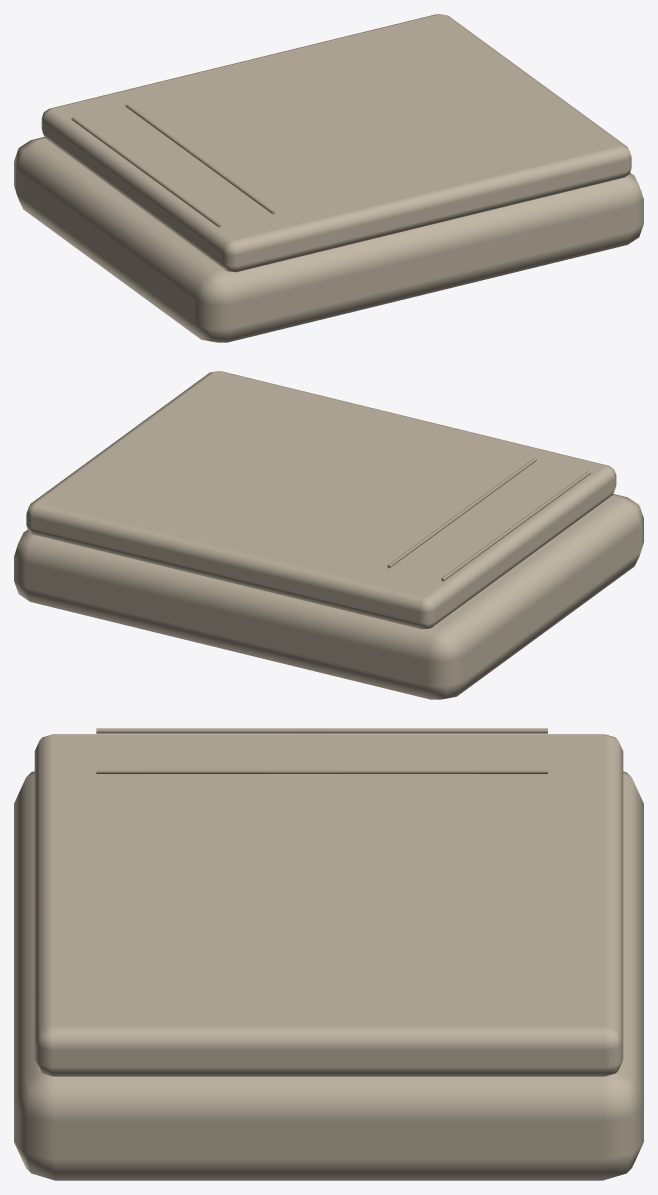
File: fold-balanced-a778bfbfab.glb
The picture shows the model from 3 angles, top to bottom: view 1: azimuth 30°, elevation 25°; view 2: azimuth 150°, elevation 25°; view 3: azimuth 270°, elevation 25°; orthographic projection. The views are drawn at different scales.
Parts seen in each view (by area): view 1: textile, sole; view 2: textile, sole; view 3: textile, sole.
Boxes of the visible parts, x1,y1,x2,y2 form: textile: (14, 14, 643, 342); sole: (71, 104, 274, 227); textile: (14, 371, 643, 699); sole: (387, 457, 590, 581); textile: (14, 734, 643, 1180); sole: (96, 728, 547, 773).
Size of the model in its own units: 0.29 by 0.065 by 0.23.
